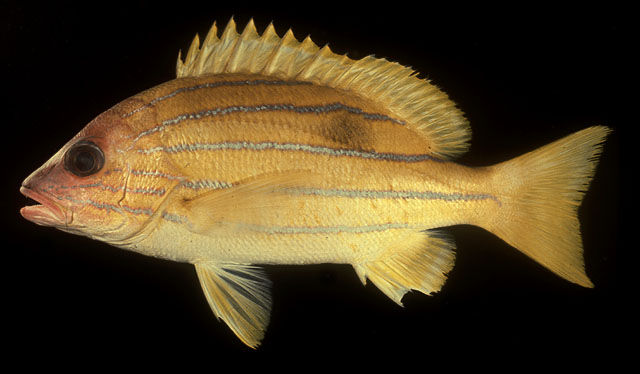fish: (17, 17, 613, 349)
